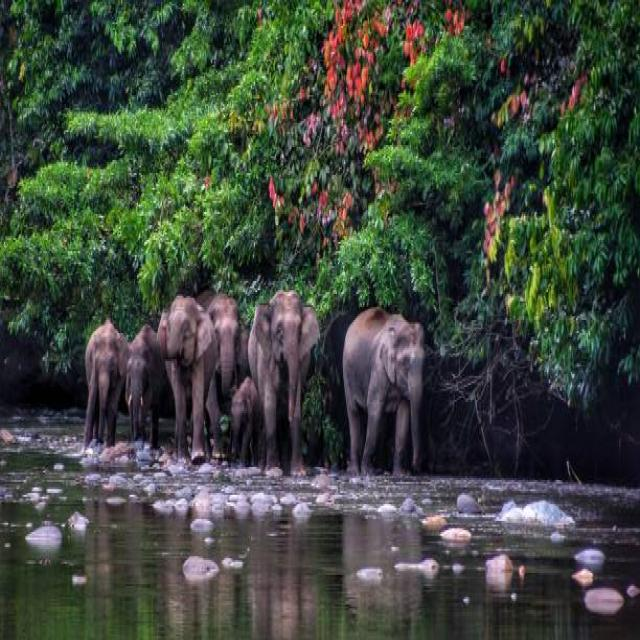Elephant: (342, 291, 434, 463), (249, 280, 319, 480), (159, 295, 214, 462), (79, 311, 128, 442), (131, 308, 163, 472), (225, 373, 270, 487), (207, 285, 242, 392)
